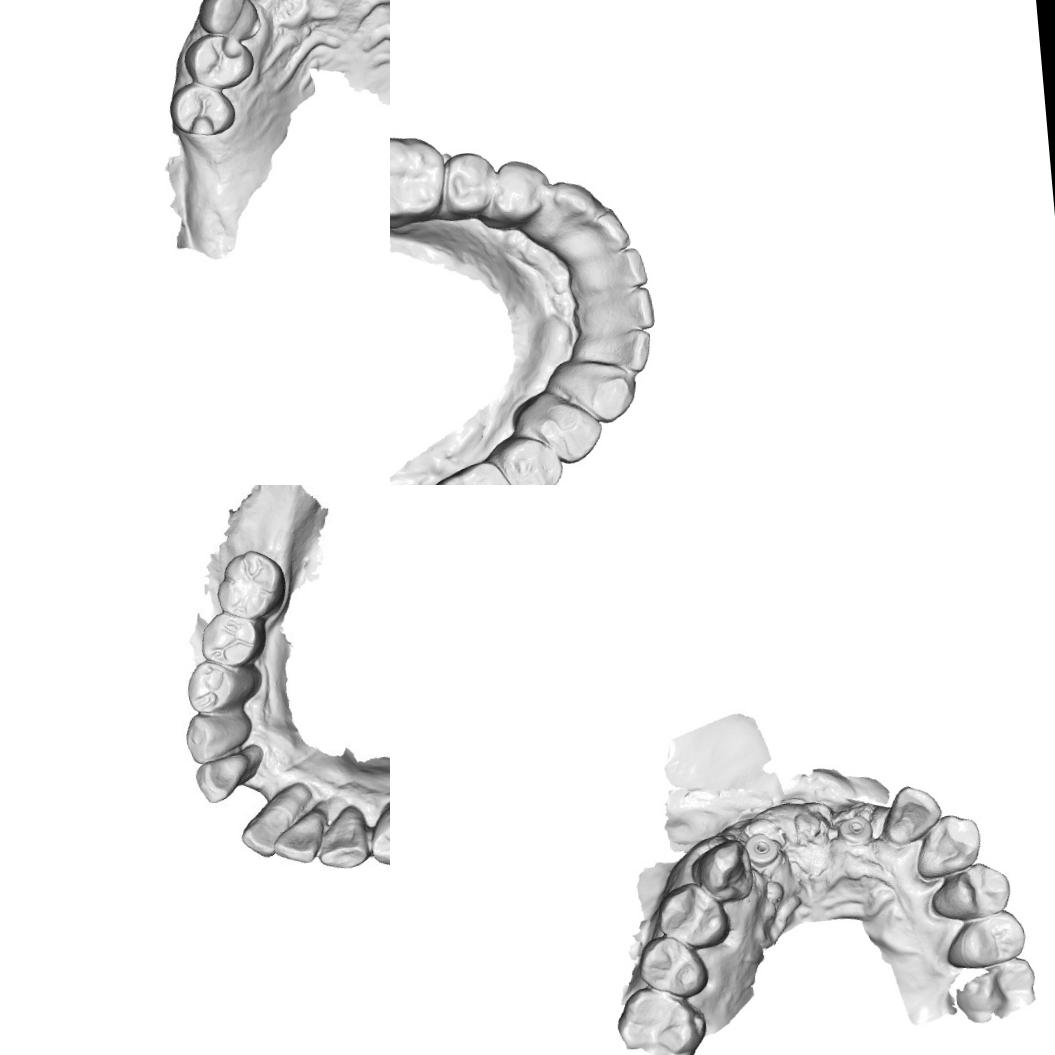canine: (549, 352, 640, 427), (910, 810, 988, 878), (689, 837, 756, 903), (312, 800, 375, 870), (541, 176, 604, 234), (184, 710, 246, 761), (194, 0, 263, 44)
implant: (839, 809, 875, 846), (746, 832, 782, 866)
incisor: (879, 780, 946, 844), (243, 792, 306, 856), (191, 749, 260, 803), (590, 282, 656, 337), (266, 808, 330, 863), (593, 324, 656, 377), (582, 246, 648, 296), (569, 208, 632, 260)
molar: (613, 981, 709, 1055), (951, 954, 1040, 1026), (390, 132, 450, 225), (214, 552, 286, 621), (424, 456, 526, 485)
premolar: (924, 856, 1015, 925), (938, 906, 1030, 970), (654, 878, 732, 953), (633, 929, 711, 1000), (482, 157, 555, 231), (434, 146, 503, 220), (178, 652, 256, 713), (182, 29, 256, 92), (197, 608, 274, 666), (166, 78, 237, 139), (492, 431, 566, 485), (538, 400, 600, 464), (362, 799, 390, 870)
